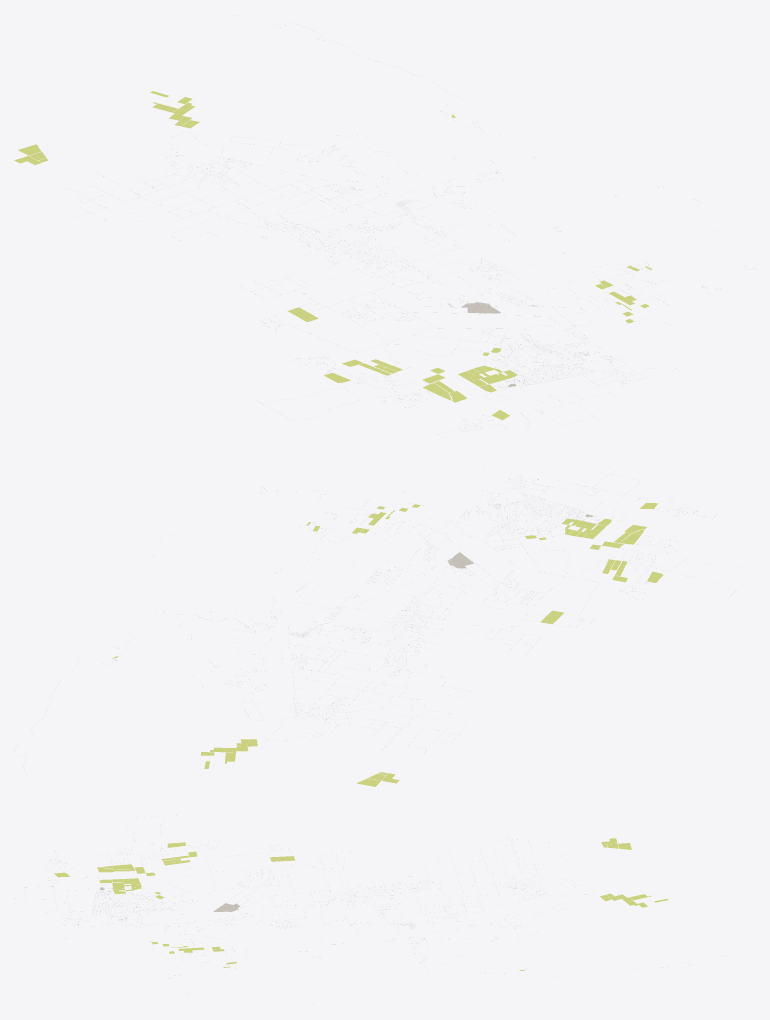
File: TILE_02_00.glb
3 views of the same model, one above another, from view 1: azimuth 30°, elevation 25°; view 2: azimuth 150°, elevation 25°; view 3: azimuth 270°, elevation 25° (orthographic). The views are drawn at different scales.
Parts seen in each view (by area): view 1: WEB_landuse_vi, WEB_highway_track_1000_1; view 2: WEB_landuse_vi, WEB_highway_track_1000_1; view 3: WEB_landuse_vi, WEB_highway_track_1000_1.
Part boxes in pixels (box(x1,y1,x2,y2)): WEB_landuse_vi: box(14, 91, 652, 420); WEB_highway_track_1000_1: box(68, 15, 755, 437); WEB_landuse_vi: box(111, 502, 663, 786); WEB_highway_track_1000_1: box(14, 467, 743, 770); WEB_landuse_vi: box(54, 838, 667, 970); WEB_highway_track_1000_1: box(14, 815, 723, 1004).
Bounding box in the file's own units: 407 × 0.00803 × 670.
